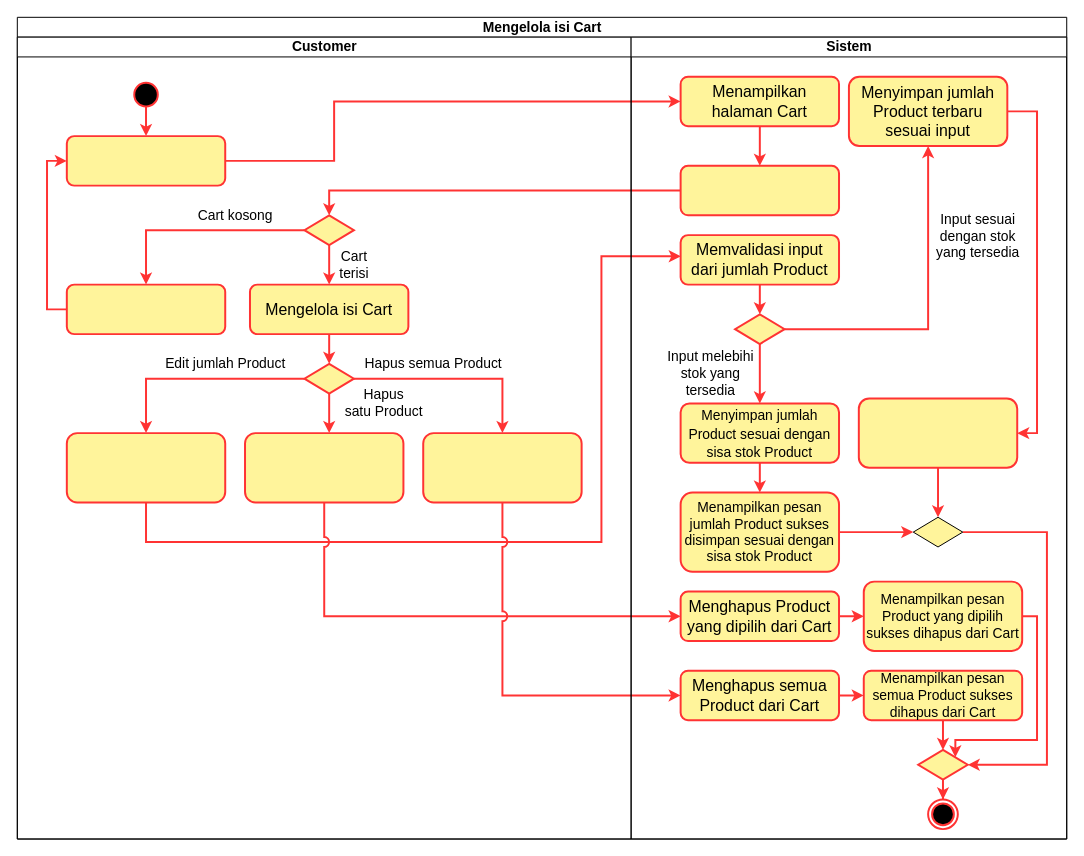
Some shapes in this 1084 by 856 pixel diagram are drawn without their labels. The shapes that lost their labels are listed below. From the top down, each one's centre as x and y in pixels, then its label:
At [145,160]: "Mengeklik ikon Cart di Navbar".
At [759,190]: "Memvalidasi isi Cart".
At [145,309]: "Menambahkan Product ke Cart".
At [937,432]: "Menampilkan pesan jumlah Product sukses disimpan sesuai dengan input".
At [145,467]: "Menginput jumlah baru dari Product di Cart".
At [324,467]: "Mengeklik tombol Delete pada salah satu Product di Cart".
At [502,467]: "Mengeklik tombol Empty Cart".
